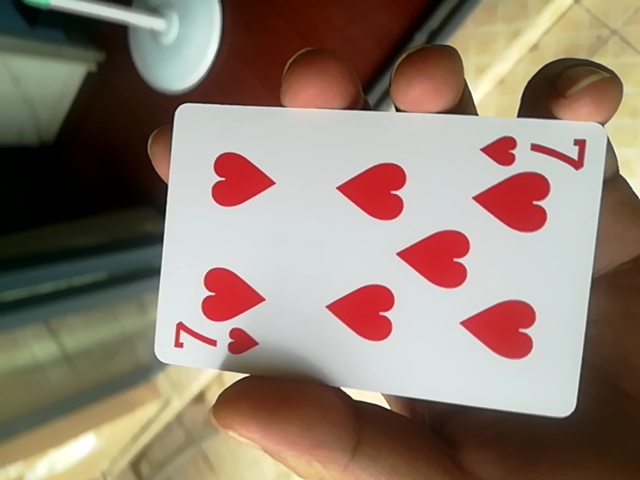hx 7: (154, 102, 614, 421)
